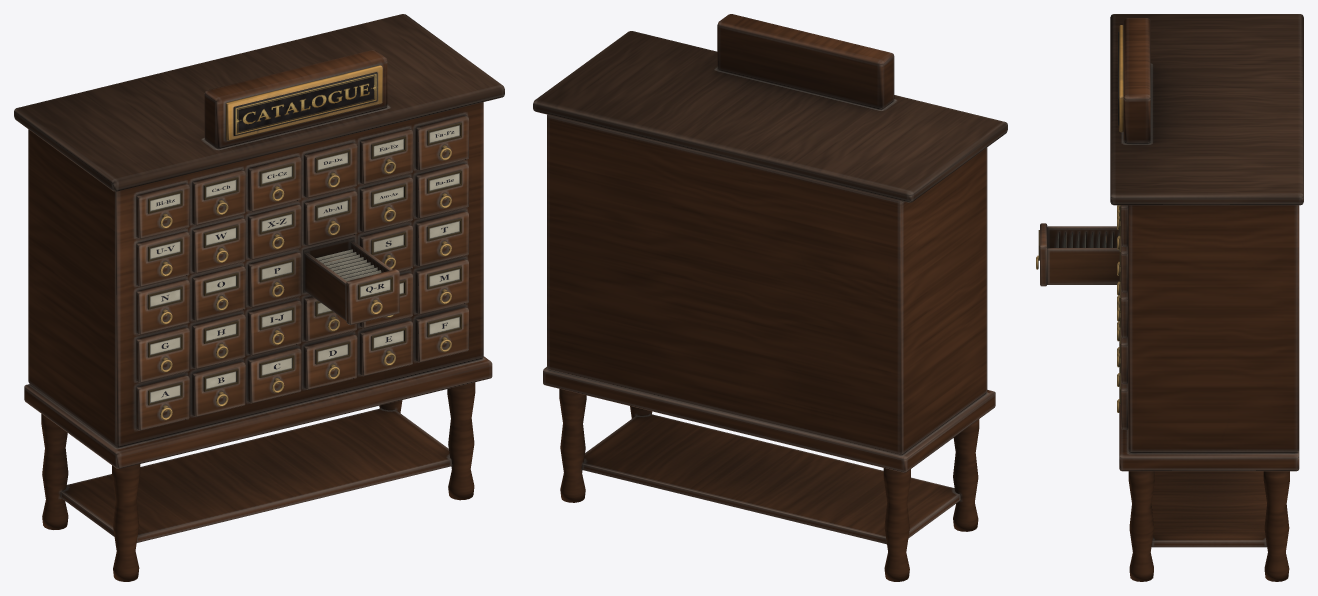
The model's file is CardCatalogue.fbx.
3 views of the same model, side by side, from view 1: azimuth 30°, elevation 25°; view 2: azimuth 150°, elevation 25°; view 3: azimuth 270°, elevation 25° (orthographic). The views are drawn at different scales.
Visible parts, largest first — view 1: CardCatalogue; view 2: CardCatalogue; view 3: CardCatalogue.
Part boxes in pixels (left/top/right/bottom): CardCatalogue: left=14, top=14, right=504, bottom=581; CardCatalogue: left=533, top=14, right=1007, bottom=581; CardCatalogue: left=1036, top=14, right=1303, bottom=581.
Bounding box in the file's own units: 480 × 542 × 297.
